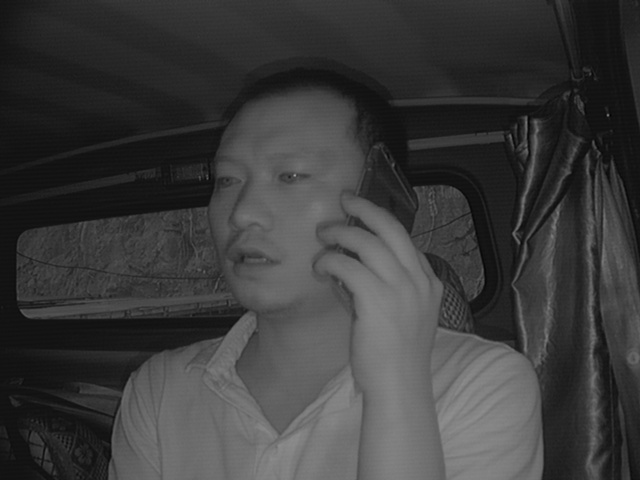hand: (316, 195, 448, 386)
